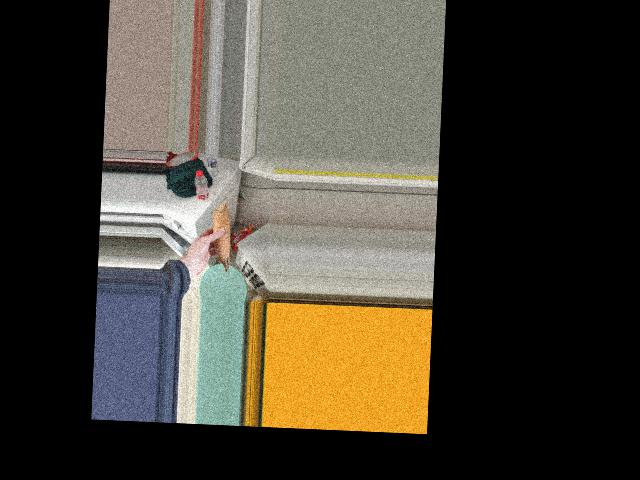sweet_potato: (206, 200, 233, 273)
